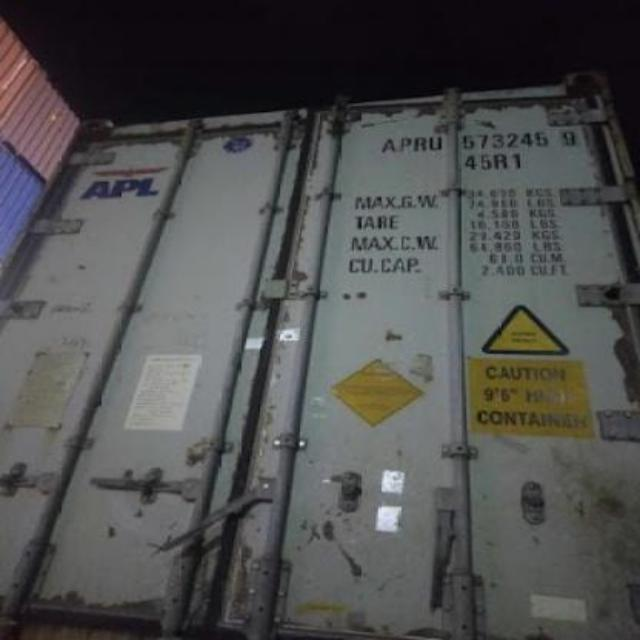2: (506, 132, 520, 148)
3: (492, 134, 506, 148)
4: (520, 130, 534, 150)
5: (534, 128, 550, 148), (460, 136, 476, 148)
7: (476, 133, 489, 151)
9: (562, 130, 576, 146)
A: (380, 136, 396, 156)
P: (398, 138, 412, 152)
R: (414, 137, 430, 153)
U: (430, 135, 442, 153)
